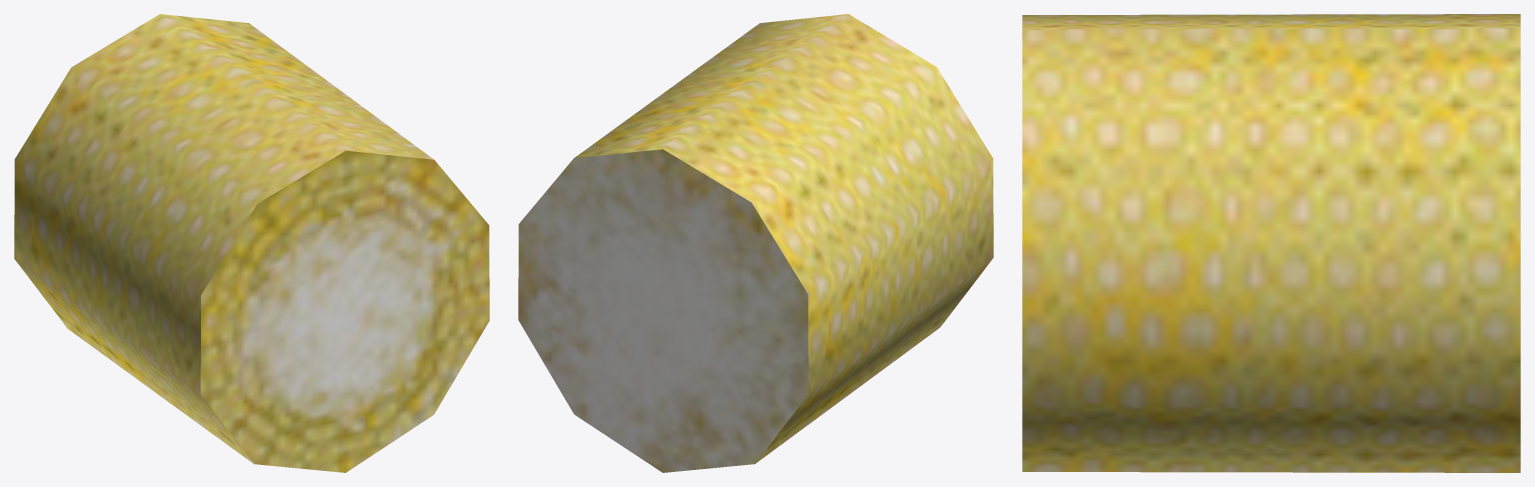
Rendered from yumi_banjie.fbx.
The picture shows the model from 3 angles, left to right: view 1: azimuth 30°, elevation 25°; view 2: azimuth 150°, elevation 25°; view 3: azimuth 270°, elevation 25°; orthographic projection. The views are drawn at different scales.
Parts seen in each view (by area): view 1: YuMubang; view 2: YuMubang; view 3: YuMubang.
Part boxes in pixels (x1,y1,x2,y2): YuMubang: (14,14,489,472); YuMubang: (518,14,993,472); YuMubang: (1022,14,1520,472).
Size of the model in its own units: 12.24 by 13.05 by 13.57.
